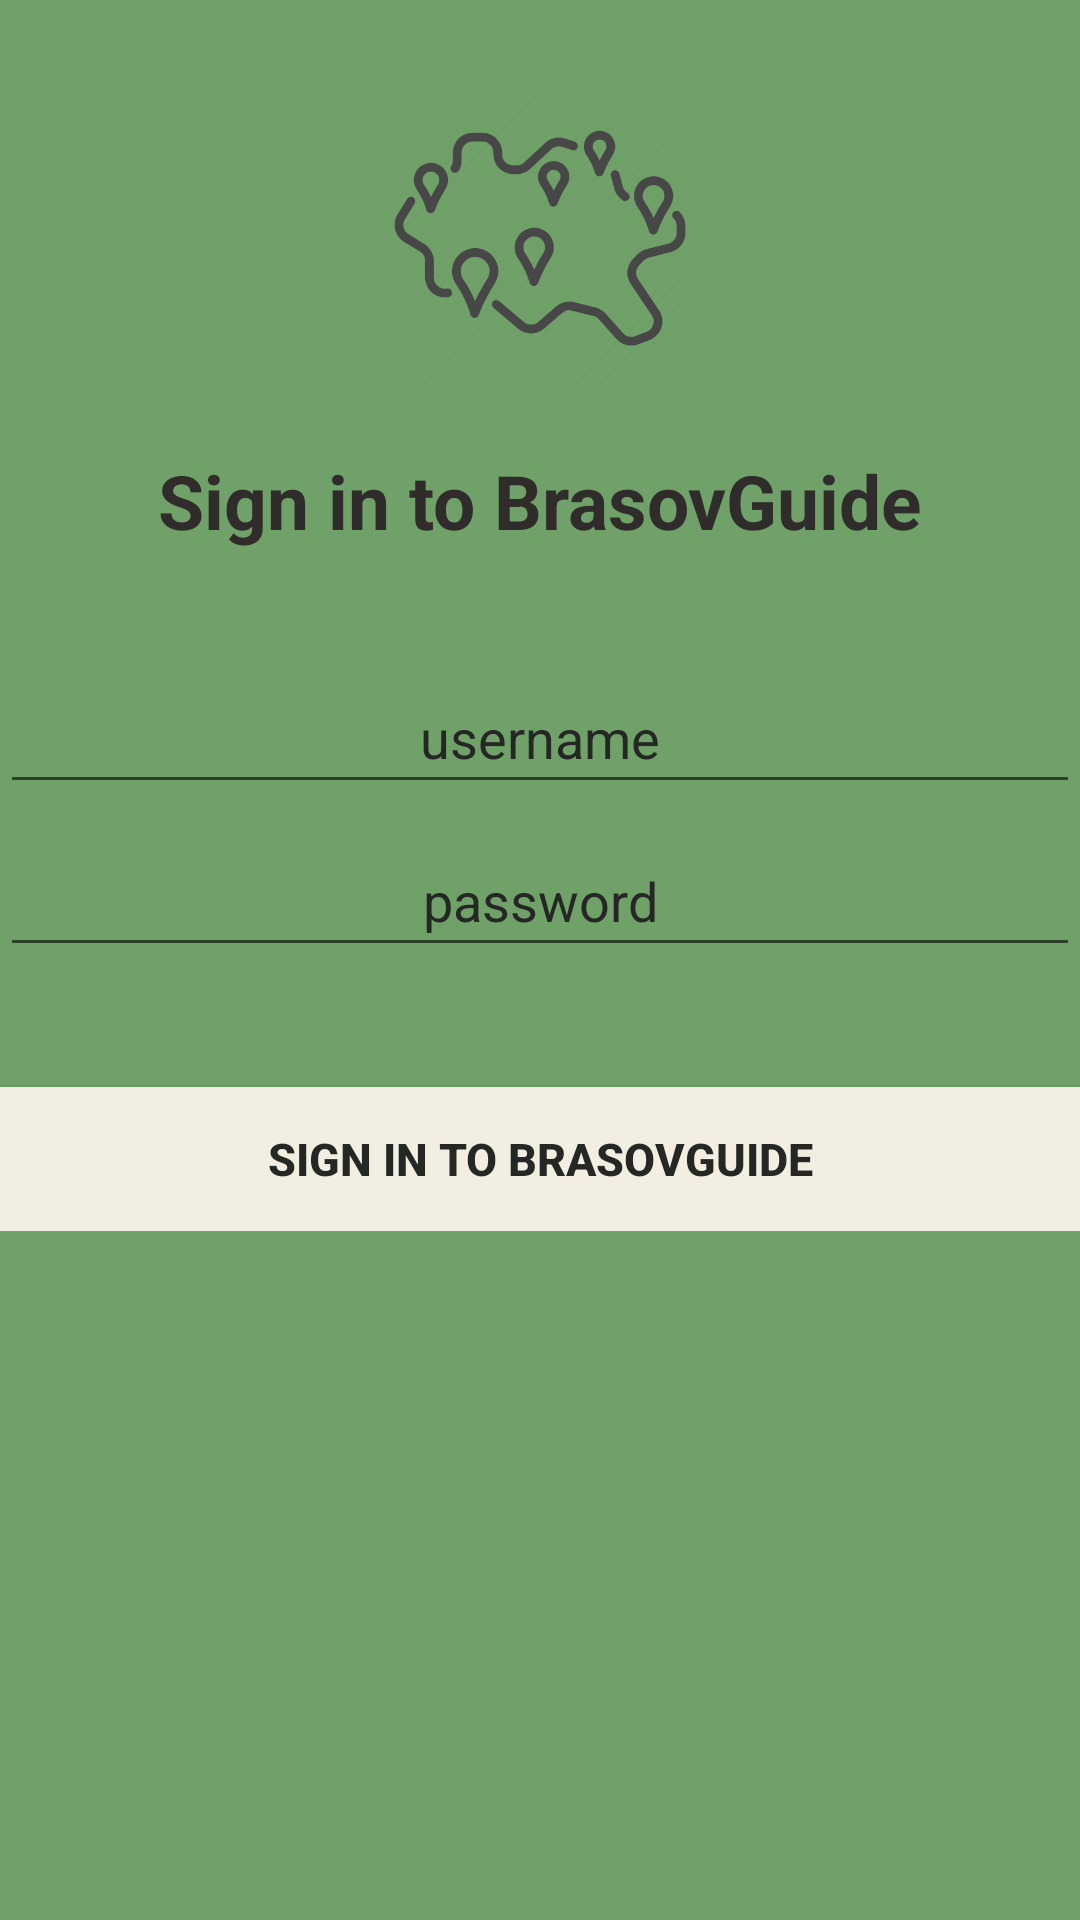

Point at icon controls on the screen. Image size 1080x1920, points as (x,y).
travel: (540,238)
